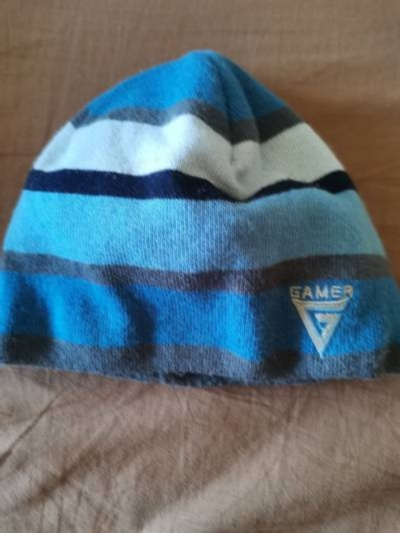Hat: (0, 39, 400, 395)
